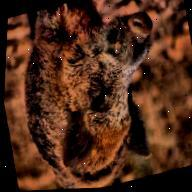boar: (1, 0, 183, 192)
